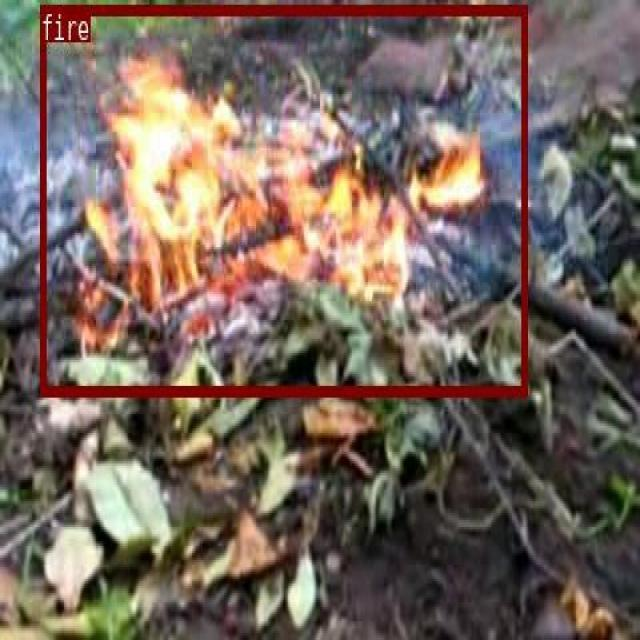fire: (39, 3, 526, 393)
